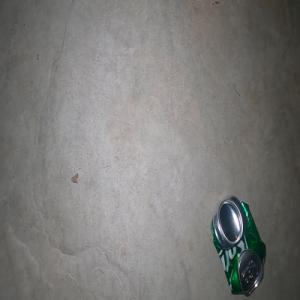SodaCan: (210, 195, 266, 296)
